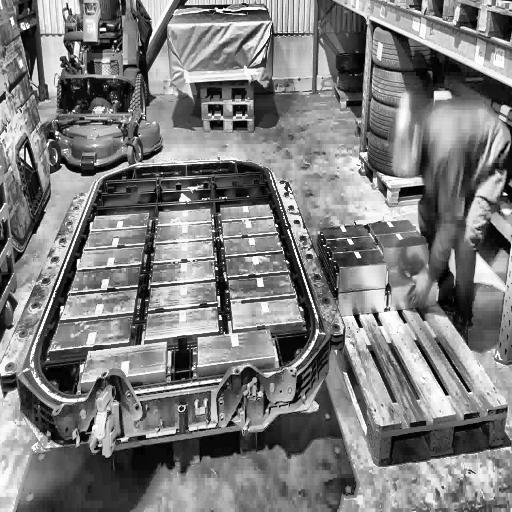b_casing: (0, 157, 348, 427)
battery_module: (385, 267, 440, 309), (331, 250, 387, 291), (377, 233, 429, 267), (339, 290, 387, 320), (319, 223, 374, 242), (327, 235, 380, 254), (369, 220, 417, 235)
